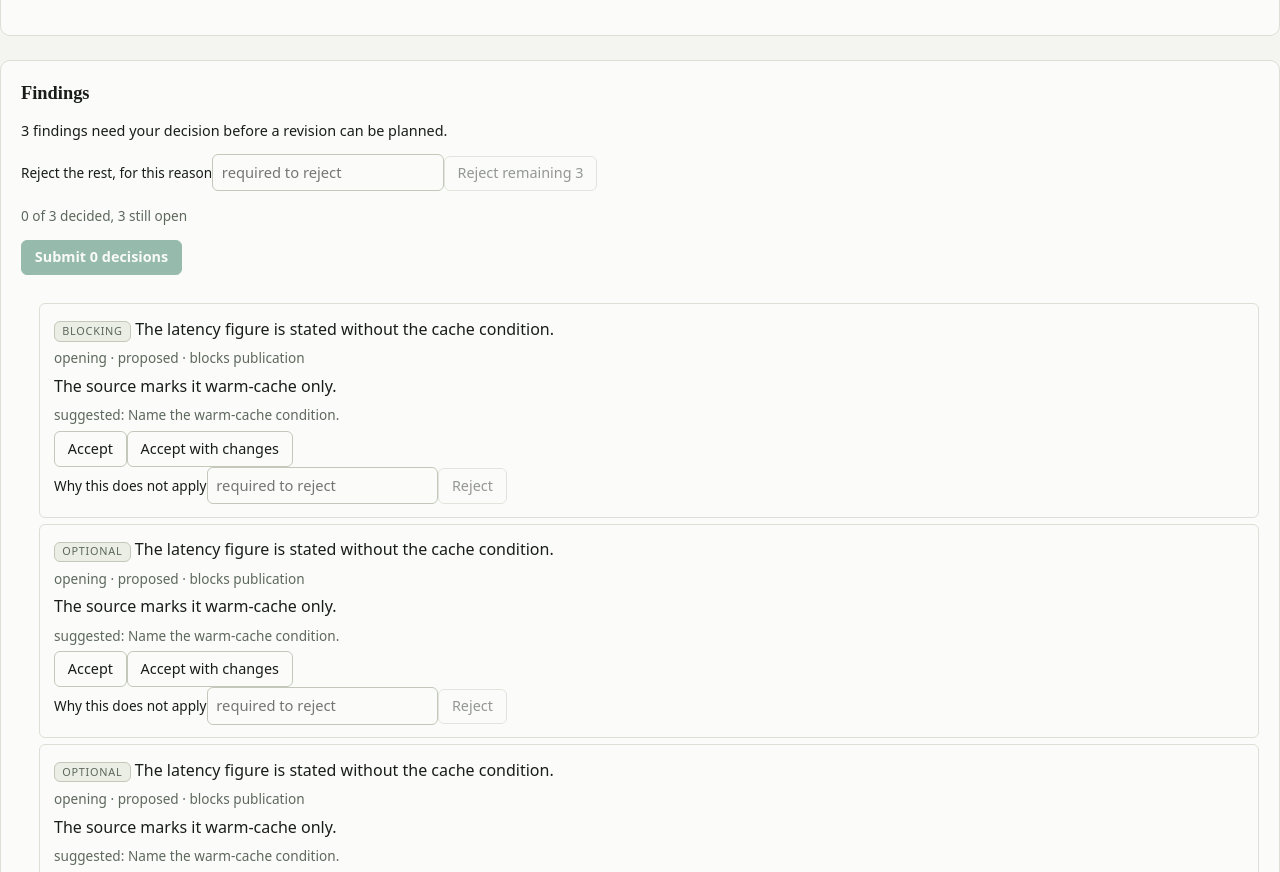
Scenario: triaging a review in one pass › will not hand over a review with anything still undecided
(page scrolled)
Click the button "Accept" below "blocking": (90,449) [54,431,127,467]
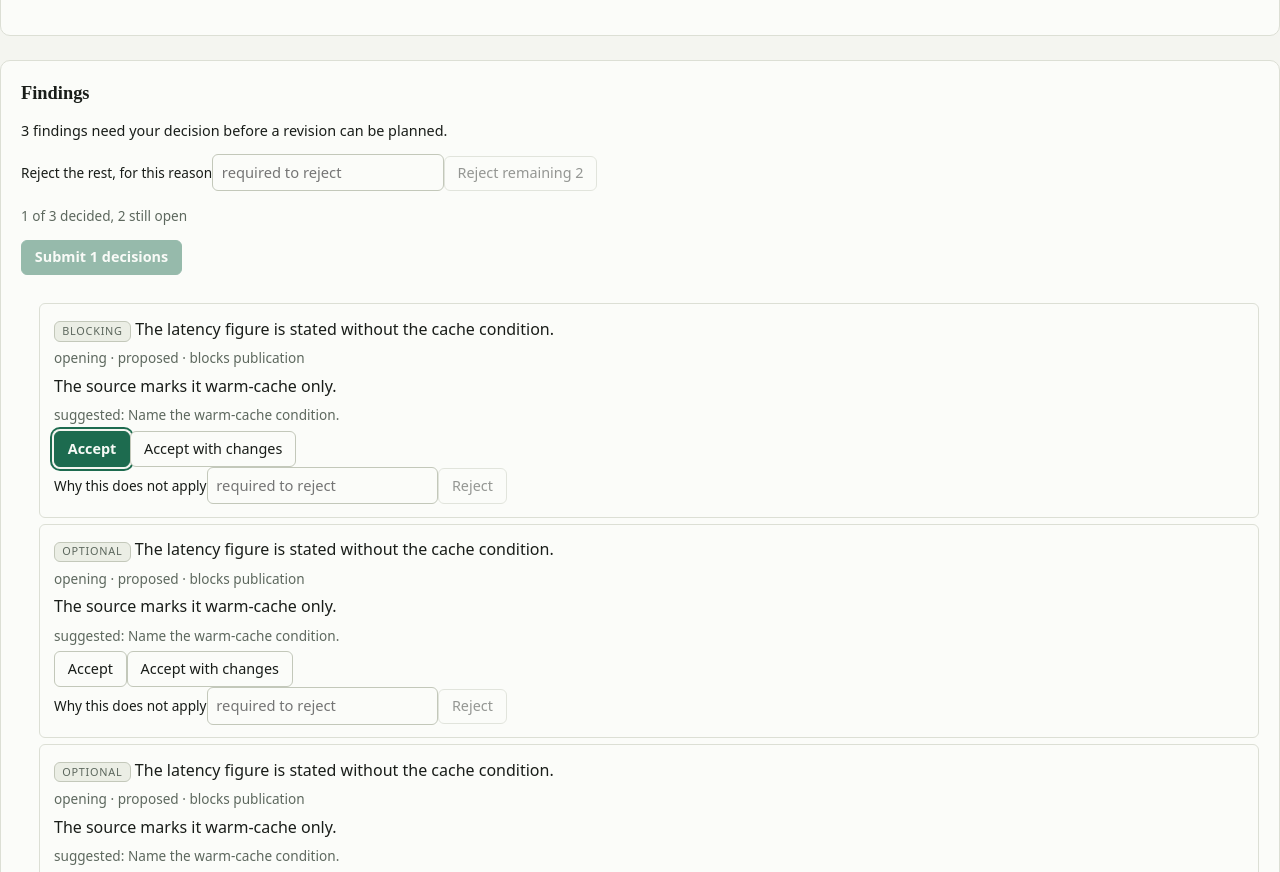
Expected: the button "Submit 1 decisions" is disabled, [21,240,182,275]
Expected: the text with test id "triage-count" reads "1 of 3 decided, 2 still open", [21,206,187,225]
